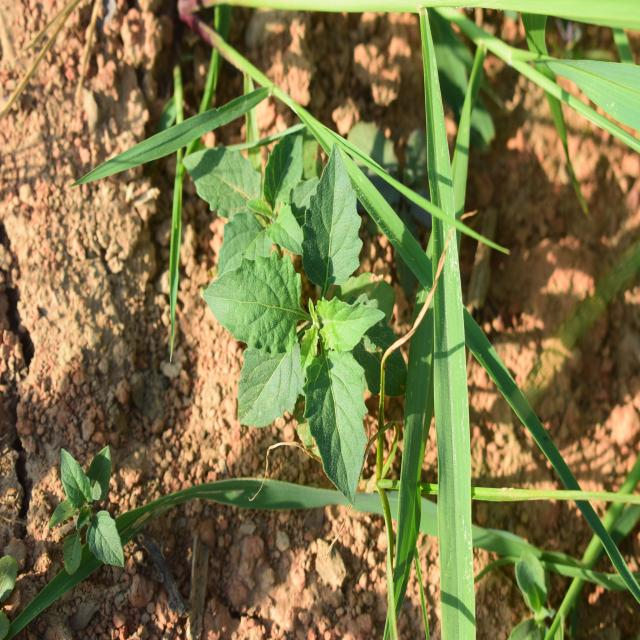Black_nightshade: (213, 152, 401, 512)
